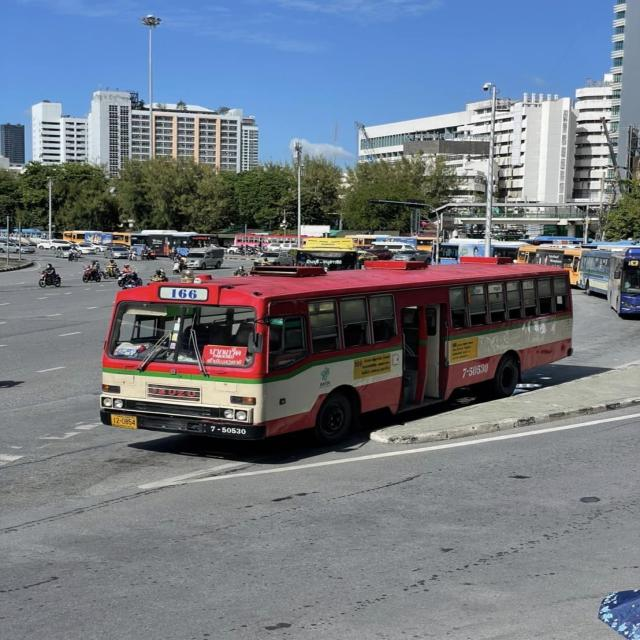BMTA-bus: (94, 255, 576, 447)
Bus-Line-Number: (162, 287, 207, 300)
Destination-Sign-Extra-Bus: (203, 345, 247, 367)
